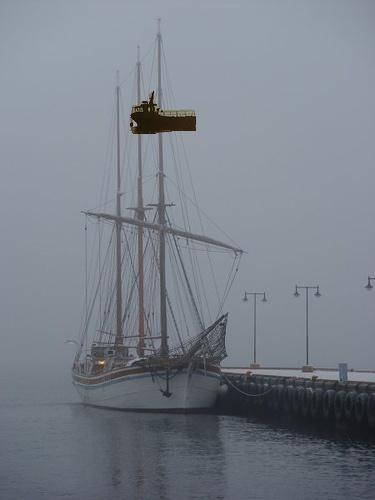tampered: (131, 92, 196, 134)
